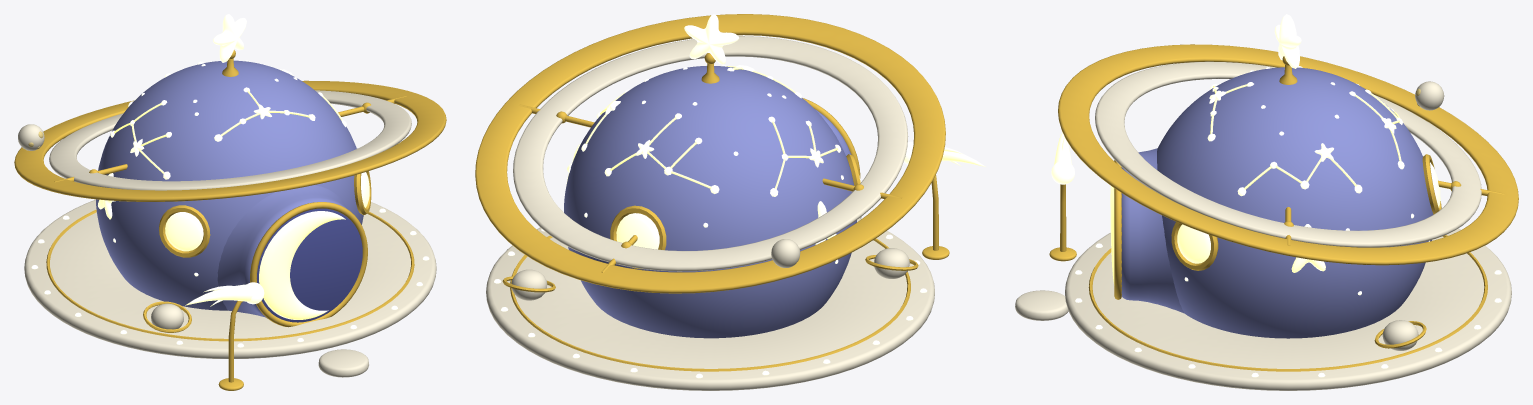
File: house_07_0701.fbx
3 views of the same model, side by side, from view 1: azimuth 30°, elevation 25°; view 2: azimuth 150°, elevation 25°; view 3: azimuth 270°, elevation 25° (orthographic). The views are drawn at different scales.
Parts seen in each view (by area): view 1: House07_PlanetDome, House07_RingDeck_Engawa, House07_PlanetRing_Outer, House07_PlanetRing_Inner, House07_MoonDisc, House07_EntrancePod, House07_CrescentDoor, House07_MoonDiscRim, House07_DeckGoldInlay, House07_RoundWindows, House07_WindowRims, House07_MoonStep (+10 smaller); view 2: House07_PlanetDome, House07_RingDeck_Engawa, House07_PlanetRing_Outer, House07_PlanetRing_Inner, House07_DeckGoldInlay, House07_PlanetStools, House07_TopStar, House07_ConstellationLines, House07_RoundWindows, House07_WindowRims, House07_RingSupports, House07_ConstellationDots (+6 smaller); view 3: House07_PlanetDome, House07_RingDeck_Engawa, House07_PlanetRing_Outer, House07_PlanetRing_Inner, House07_EntrancePod, House07_DeckGoldInlay, House07_MoonStep, House07_RoundWindows, House07_WindowRims, House07_TopStar, House07_MoonDiscRim, House07_ConstellationLines (+6 smaller).
Boxes of the visible parts, x1,y1,x2,y2 form: House07_PlanetDome: [96, 60, 363, 310]; House07_RingDeck_Engawa: [24, 199, 436, 358]; House07_PlanetRing_Outer: [14, 80, 446, 201]; House07_PlanetRing_Inner: [49, 90, 411, 190]; House07_MoonDisc: [257, 208, 362, 322]; House07_EntrancePod: [217, 185, 347, 318]; House07_CrescentDoor: [259, 211, 345, 319]; House07_MoonDiscRim: [250, 202, 367, 327]; House07_DeckGoldInlay: [46, 209, 414, 341]; House07_RoundWindows: [165, 172, 369, 251]; House07_WindowRims: [159, 171, 371, 257]; House07_MoonStep: [318, 349, 368, 377]; House07_PlanetDome: [564, 66, 856, 338]; House07_RingDeck_Engawa: [486, 218, 934, 390]; House07_PlanetRing_Outer: [475, 14, 945, 293]; House07_PlanetRing_Inner: [513, 36, 908, 271]; House07_DeckGoldInlay: [510, 235, 910, 371]; House07_PlanetStools: [511, 248, 909, 300]; House07_TopStar: [684, 14, 738, 64]; House07_ConstellationLines: [585, 66, 837, 188]; House07_RoundWindows: [616, 175, 860, 249]; House07_WindowRims: [610, 154, 860, 269]; House07_RingSupports: [518, 104, 902, 272]; House07_ConstellationDots: [568, 65, 843, 263]; House07_PlanetDome: [1157, 67, 1433, 338]; House07_RingDeck_Engawa: [1065, 228, 1511, 390]; House07_PlanetRing_Outer: [1058, 44, 1518, 265]; House07_PlanetRing_Inner: [1095, 61, 1481, 247]; House07_EntrancePod: [1121, 148, 1184, 313]; House07_DeckGoldInlay: [1088, 235, 1487, 371]; House07_MoonStep: [1015, 290, 1068, 320]; House07_RoundWindows: [1177, 162, 1440, 263]; House07_WindowRims: [1171, 154, 1441, 270]; House07_TopStar: [1274, 14, 1301, 68]; House07_MoonDiscRim: [1114, 160, 1121, 299]; House07_ConstellationLines: [1210, 84, 1401, 189].
Size of the model in its own units: 5.48 by 3.79 by 5.86.
